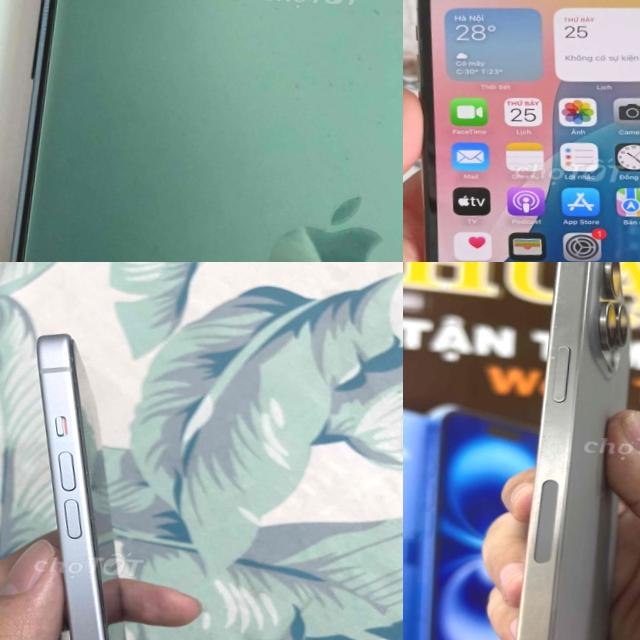gen_11: (14, 0, 403, 262)
gen_15: (0, 314, 203, 640), (493, 262, 640, 640)
gen_x_xs: (418, 0, 640, 262)
